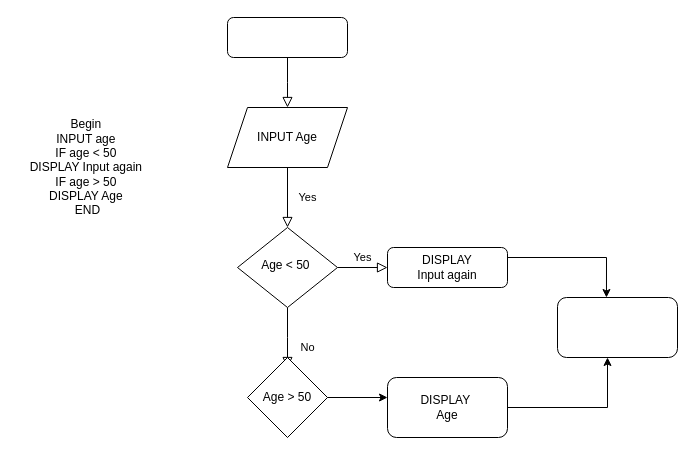
This 695x455 diagram has some shape labels left out. Each missing label, with the centre of its shape:
"BEGIN" goes at (x=287, y=37).
"END" goes at (x=617, y=327).
